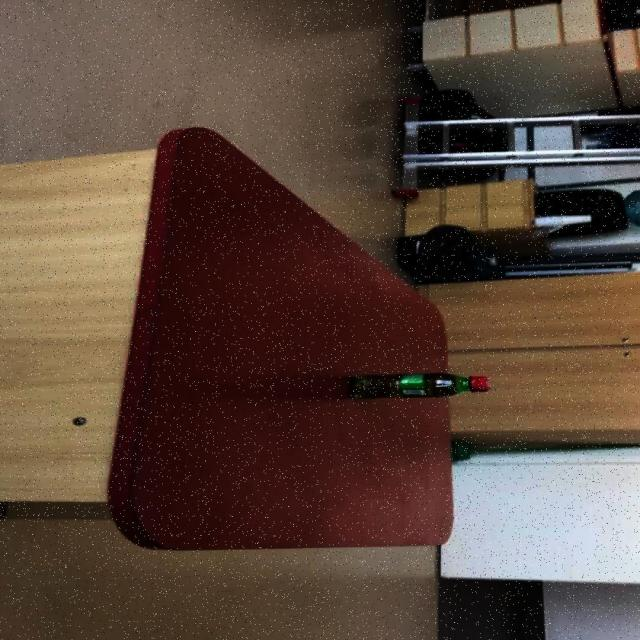Guarana: (106, 125, 483, 550), (348, 371, 488, 399)
